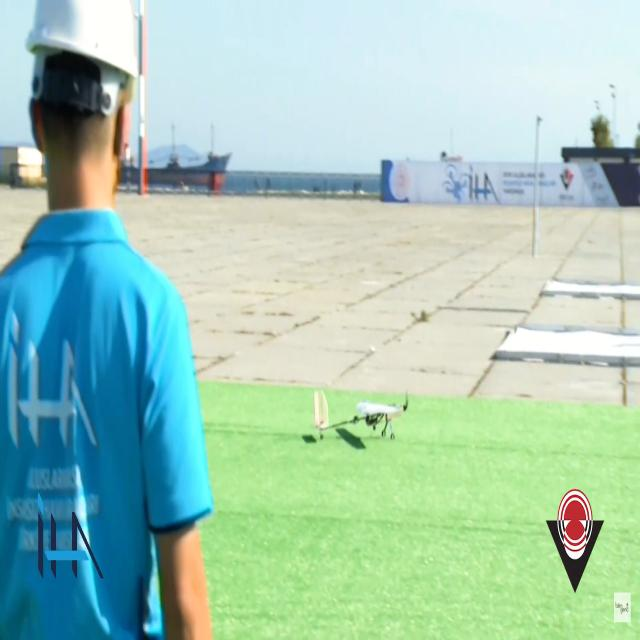iha: (345, 388, 379, 445)
